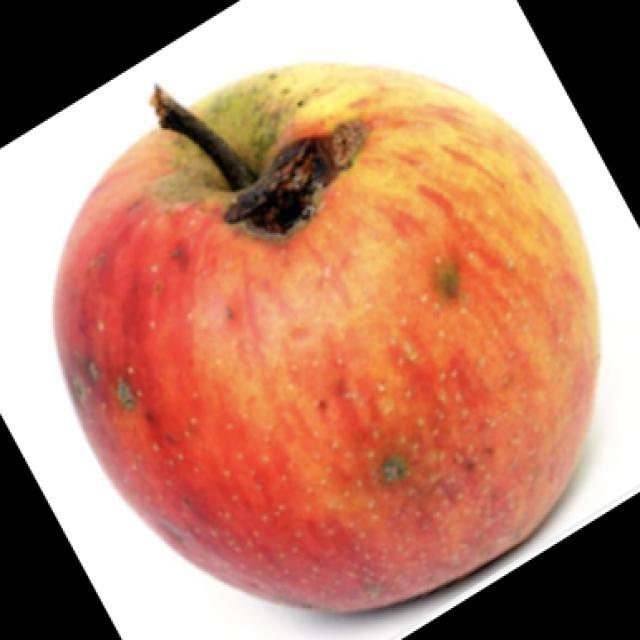Rotten: (67, 68, 568, 585)
